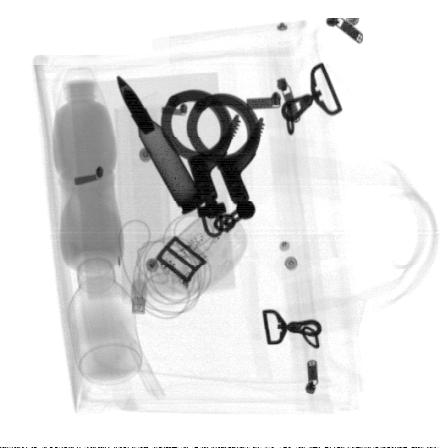Bullet: (116, 74, 204, 214)
HandCuffs: (159, 88, 266, 242)
